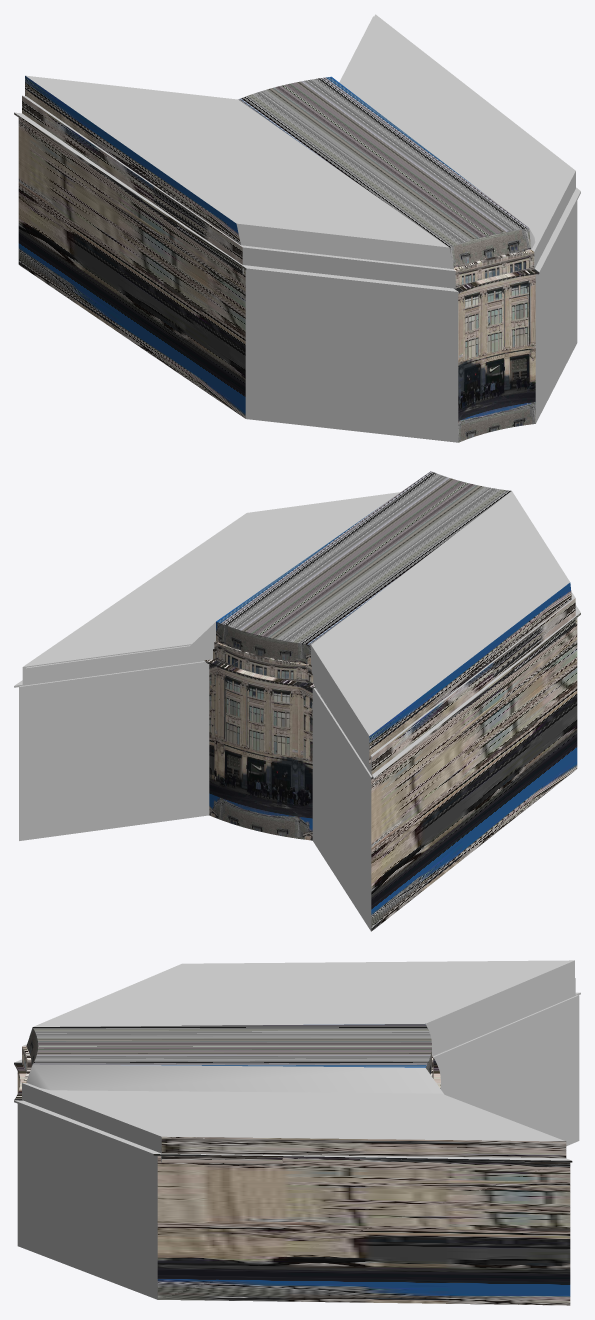
Rendered from building.glb.
The picture shows the model from 3 angles, top to bottom: view 1: azimuth 30°, elevation 25°; view 2: azimuth 150°, elevation 25°; view 3: azimuth 270°, elevation 25°; orthographic projection. The views are drawn at different scales.
Parts seen in each view (by area): view 1: nike_town, nike_town-nikeTown (×4); view 2: nike_town, nike_town-nikeTown (×4); view 3: nike_town, nike_town-nikeTown (×4).
Boxes of the visible parts, x1,y1,x2,y2 form: nike_town: [15, 14, 580, 442]; nike_town-nikeTown (×4): [14, 76, 539, 442]; nike_town: [14, 491, 580, 931]; nike_town-nikeTown (×4): [204, 471, 580, 931]; nike_town: [14, 960, 580, 1299]; nike_town-nikeTown (×4): [14, 1023, 572, 1305].
Size of the model in its own units: 3.78 by 1.91 by 5.39.
Materials: 1 (1 with a texture image).
